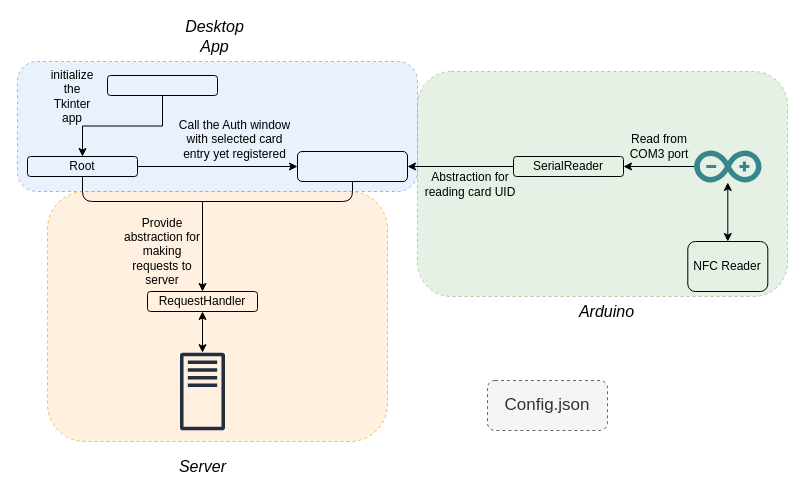
The diagram is 805 pixels wide and 498 high, and some of its shapes have lost their labels. The centre of each missing label's shape, as x and y in pixels:
"Authentication window" goes at point 352,166.
"Program" goes at point 162,85.
